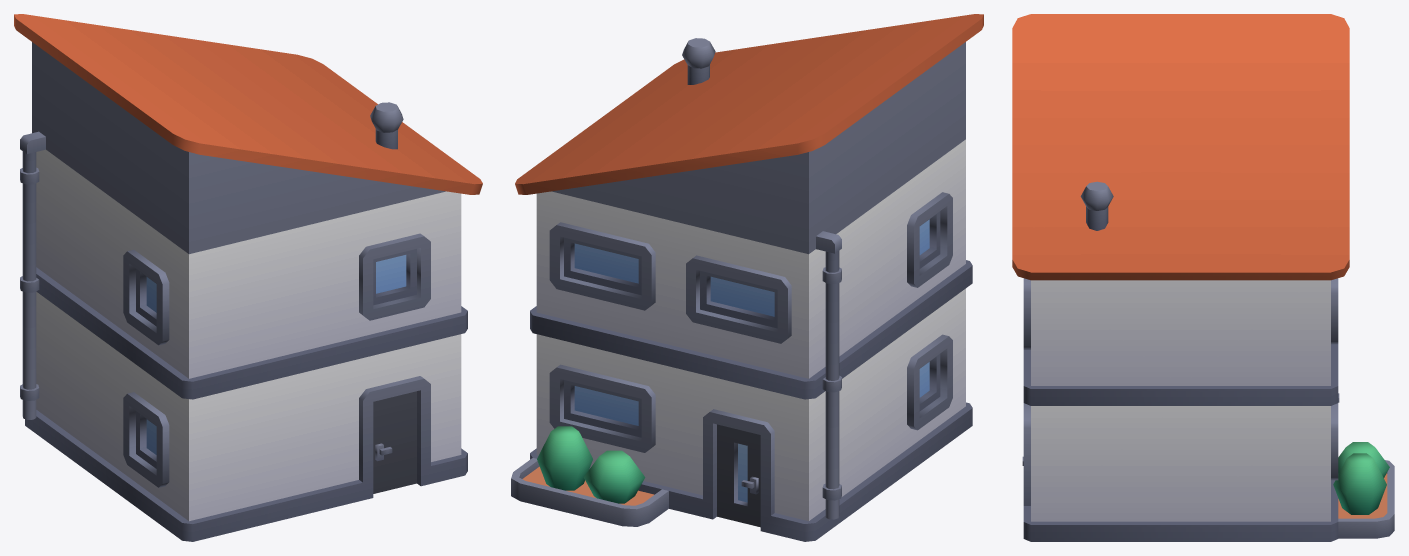
Rendered from house_suburb_k_warm.glb.
3 renders of one model, left to right at view 1: azimuth 30°, elevation 25°; view 2: azimuth 150°, elevation 25°; view 3: azimuth 270°, elevation 25°, orthographic. The views are drawn at different scales.
Visible parts, largest first — view 1: building-type-k; view 2: building-type-k; view 3: building-type-k.
Boxes of the visible parts, x1,y1,x2,y2 form: building-type-k: (14,14,482,541); building-type-k: (511,14,983,541); building-type-k: (1012,14,1394,541).
Bounding box in the file's own units: 0.921 × 1.15 × 1.02.
1 material, 1 textured.
